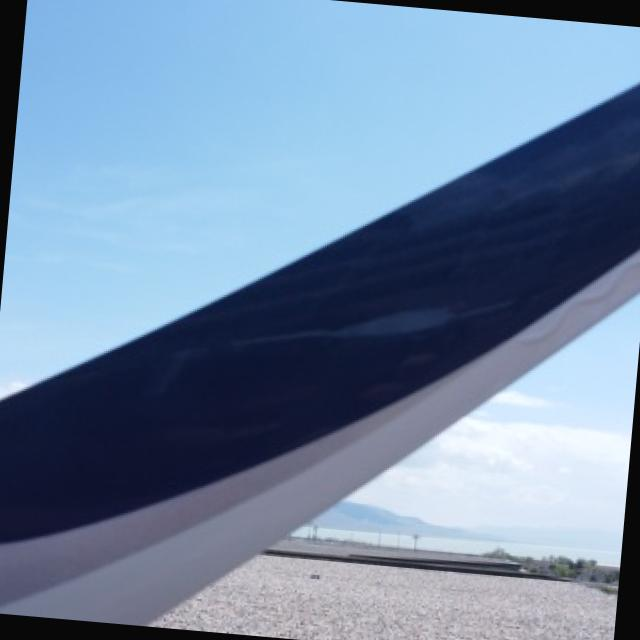healthy: (363, 296, 640, 524)
